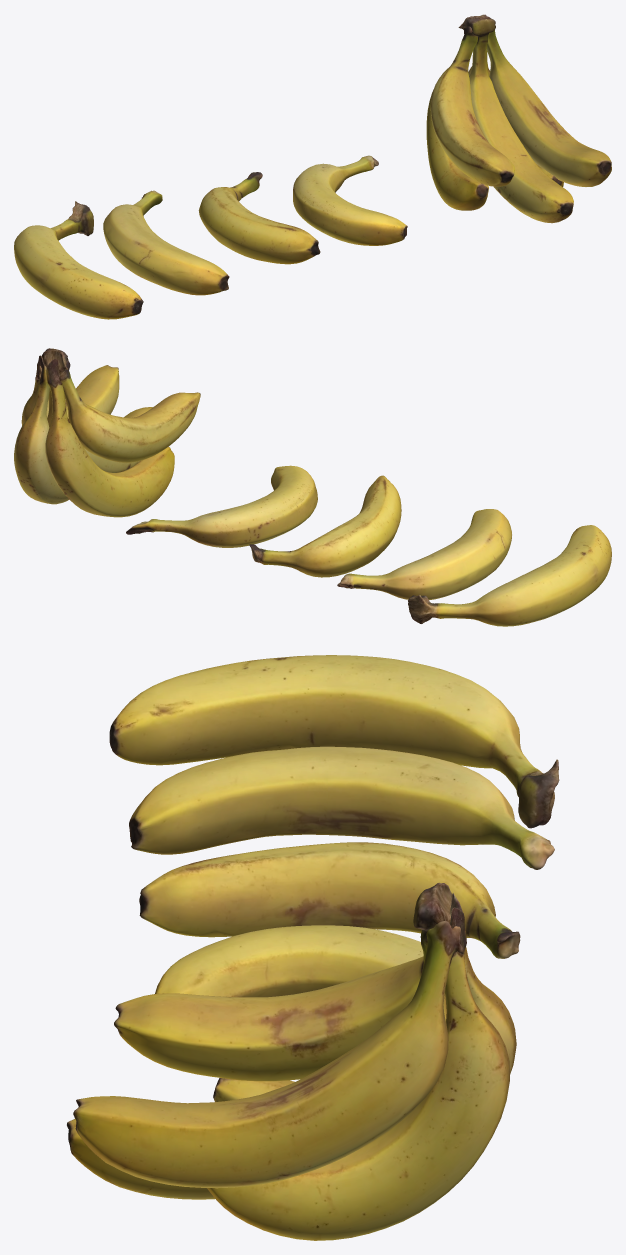
File: bananas.glb
3 views of the same model, one above another, from view 1: azimuth 30°, elevation 25°; view 2: azimuth 150°, elevation 25°; view 3: azimuth 270°, elevation 25° (orthographic). The views are drawn at different scales.
Visible parts, largest first — view 1: bananas_bunch, bananas_d, bananas_c, bananas_a, bananas_b; view 2: bananas_bunch, bananas_d, bananas_c, bananas_a, bananas_b; view 3: bananas_bunch, bananas_d, bananas_c, bananas_b, bananas_a.
Part boxes in pixels (<box>): bananas_bunch: <box>426,14,611,223</box>; bananas_d: <box>14,201,143,319</box>; bananas_c: <box>103,190,229,295</box>; bananas_a: <box>293,155,407,245</box>; bananas_b: <box>198,172,320,264</box>; bananas_bunch: <box>14,348,200,517</box>; bananas_d: <box>408,525,611,626</box>; bananas_c: <box>337,509,511,600</box>; bananas_a: <box>126,465,317,547</box>; bananas_b: <box>249,475,401,577</box>; bananas_bunch: <box>67,882,516,1240</box>; bananas_d: <box>109,655,559,828</box>; bananas_c: <box>129,746,554,869</box>; bananas_b: <box>139,842,520,958</box>; bananas_a: <box>155,925,423,997</box>.
Size of the model in its own units: 0.6 by 0.1788 by 0.2441.
1 material, 1 textured.
